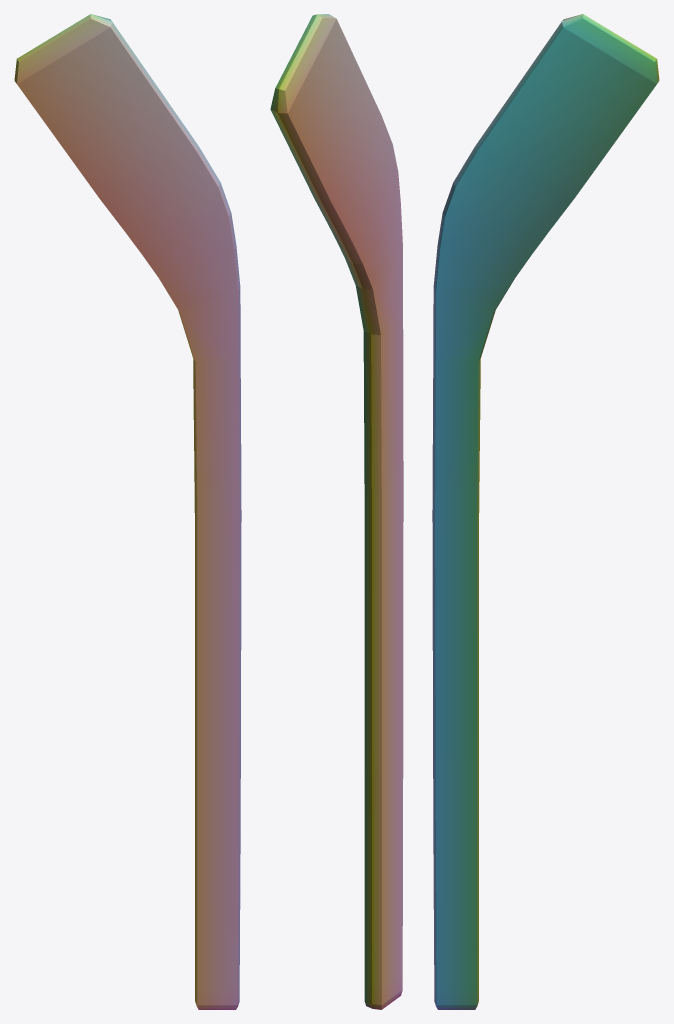
File: Stick (Attacker).glb
3 views of the same model, side by side, from view 1: azimuth 90°, elevation 25°; view 2: azimuth 150°, elevation 25°; view 3: azimuth 270°, elevation 25° (orthographic). The views are drawn at different scales.
Parts seen in each view (by area): view 1: Stick (Attacker); view 2: Stick (Attacker); view 3: Stick (Attacker).
Part boxes in pixels (x1=…): Stick (Attacker): x1=14, y1=14, x2=241, y2=1009; Stick (Attacker): x1=270, y1=14, x2=403, y2=1009; Stick (Attacker): x1=432, y1=14, x2=659, y2=1009.
Size of the model in its own units: 0.0495 by 2.83 by 0.5858.
